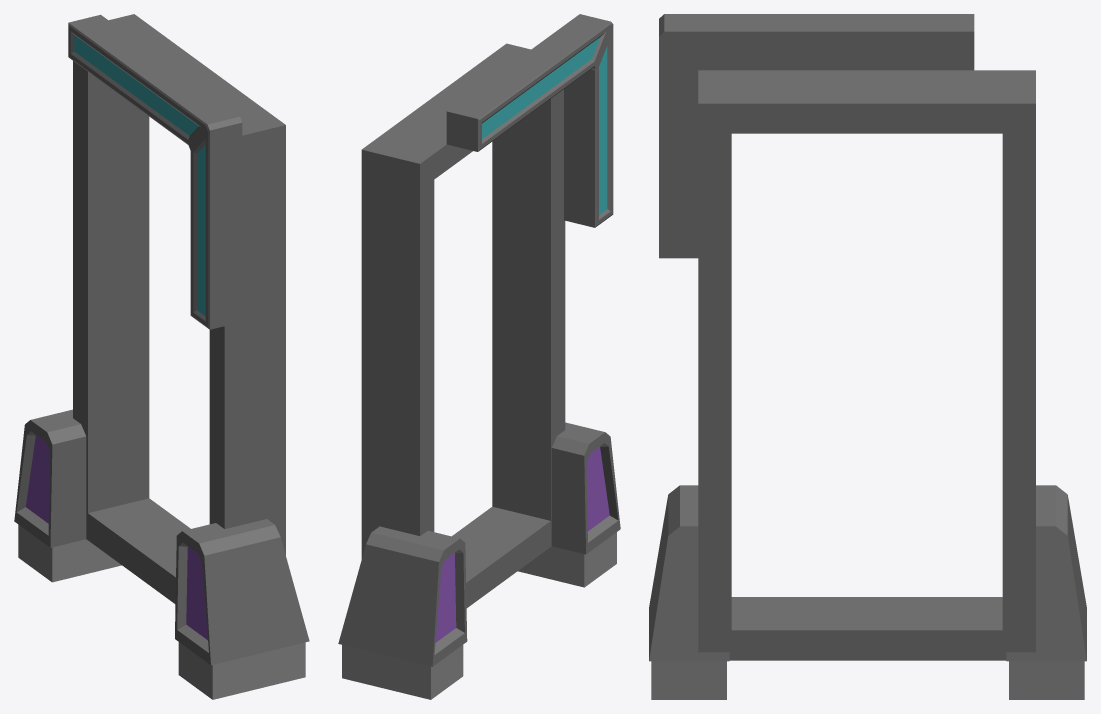
The picture shows the model from 3 angles, left to right: view 1: azimuth 30°, elevation 25°; view 2: azimuth 150°, elevation 25°; view 3: azimuth 270°, elevation 25°; orthographic projection. The views are drawn at different scales.
Parts seen in each view (by area): view 1: SM_B4_D_SM_B4_D_B; view 2: SM_B4_D_SM_B4_D_B; view 3: SM_B4_D_SM_B4_D_B.
Boxes of the visible parts, box(x1,y1,x2,y2) form: SM_B4_D_SM_B4_D_B: box(14, 14, 309, 699); SM_B4_D_SM_B4_D_B: box(338, 14, 620, 699); SM_B4_D_SM_B4_D_B: box(649, 14, 1086, 699).
Bounding box in the file's own units: 56.82 × 196 × 314.
1 material, 1 textured.
